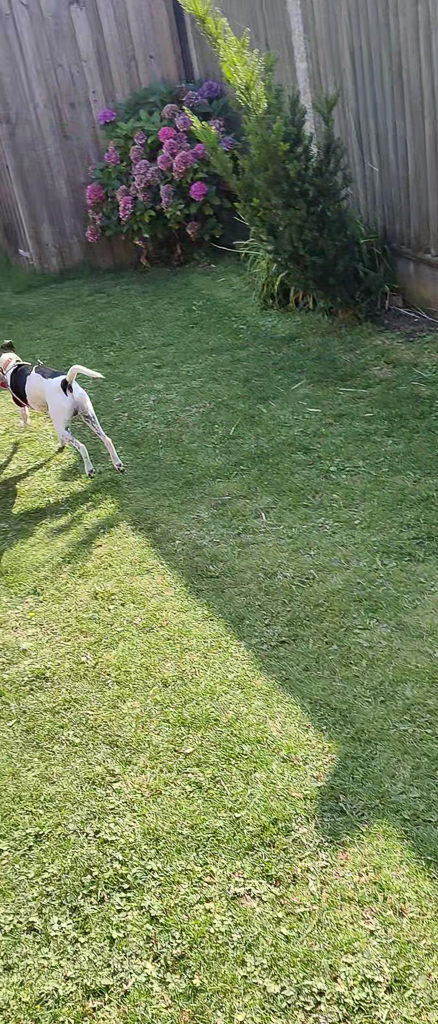Dog: (0, 333, 131, 485)
